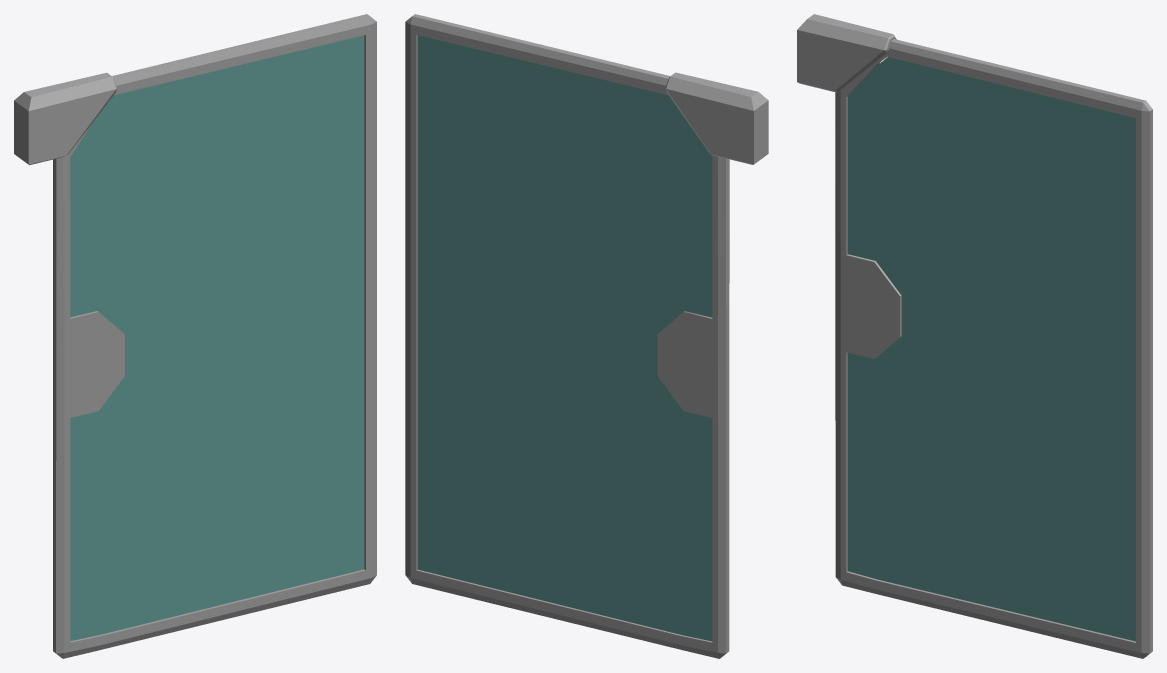
File: ToiletDoor.fbx
3 renders of one model, left to right at view 1: azimuth 30°, elevation 25°; view 2: azimuth 150°, elevation 25°; view 3: azimuth 330°, elevation 25°, orthographic. The views are drawn at different scales.
Visible parts, largest first — view 1: pCube498, pCube496, pCube497; view 2: pCube498, pCube496, pCube497; view 3: pCube498, pCube496, pCube497.
Boxes of the visible parts, x1=… form: pCube498: x1=70, y1=35, x2=364, y2=640; pCube496: x1=53, y1=14, x2=376, y2=658; pCube497: x1=14, y1=72, x2=116, y2=165; pCube498: x1=417, y1=35, x2=712, y2=641; pCube496: x1=405, y1=14, x2=729, y2=658; pCube497: x1=665, y1=72, x2=768, y2=164; pCube498: x1=847, y1=57, x2=1135, y2=641; pCube496: x1=835, y1=39, x2=1152, y2=658; pCube497: x1=797, y1=14, x2=896, y2=91.
Bounding box in the file's own units: 1.88 × 2.9 × 0.1351.
